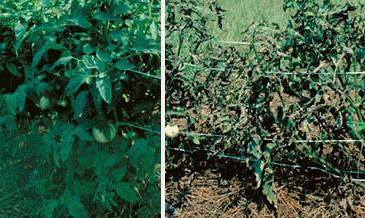Tomato leaf bacterial spot: (94, 73, 117, 109), (56, 131, 80, 165), (30, 35, 51, 72), (68, 8, 91, 34), (7, 89, 27, 116)
